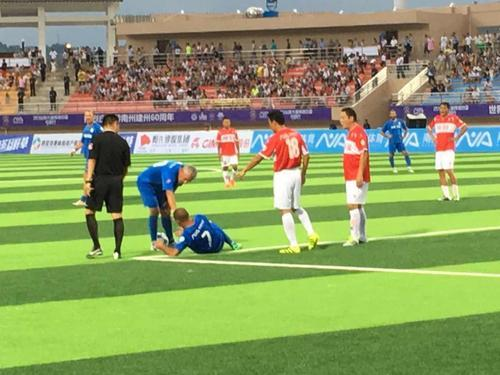bending: (131, 157, 197, 254)
down: (152, 206, 245, 262)
up: (238, 113, 321, 261), (86, 113, 138, 259), (332, 107, 377, 255), (424, 99, 470, 207), (67, 110, 107, 210), (381, 107, 416, 180), (213, 113, 245, 191)
